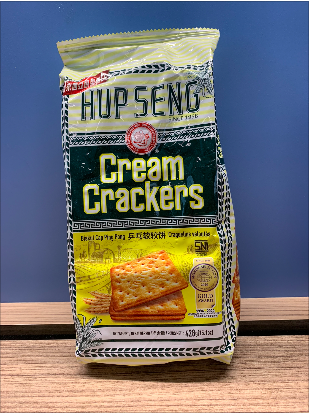Crackers_400-499g: (70, 71, 222, 346)
